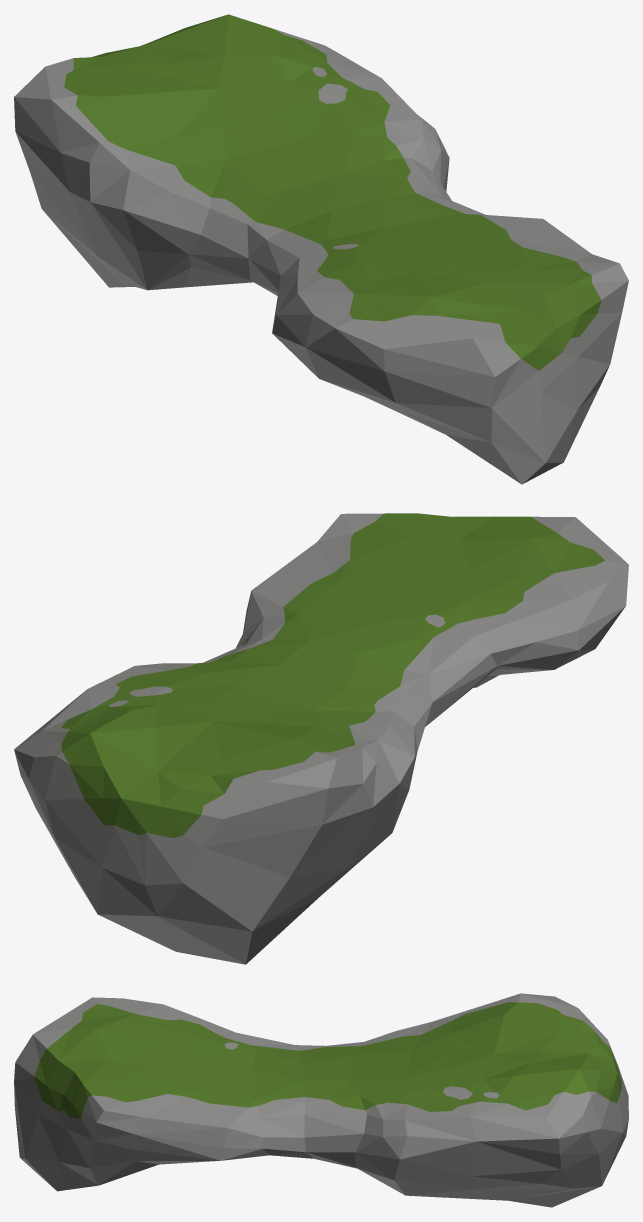
Rendered from Cavern_FloorGrass_Narrow_Bridge_Sml-01.fbx.
3 renders of one model, top to bottom at view 1: azimuth 30°, elevation 25°; view 2: azimuth 150°, elevation 25°; view 3: azimuth 270°, elevation 25°, orthographic. The views are drawn at different scales.
Visible parts, largest first — view 1: Cavern_FloorGrass_Narrow_Bridge_Sml-01; view 2: Cavern_FloorGrass_Narrow_Bridge_Sml-01; view 3: Cavern_FloorGrass_Narrow_Bridge_Sml-01.
Part boxes in pixels (bbox=[...]): Cavern_FloorGrass_Narrow_Bridge_Sml-01: bbox=[14, 14, 628, 484]; Cavern_FloorGrass_Narrow_Bridge_Sml-01: bbox=[14, 513, 628, 964]; Cavern_FloorGrass_Narrow_Bridge_Sml-01: bbox=[14, 993, 628, 1207].
Bounding box in the file's own units: 605 × 384 × 1306.
Materials: 1 (1 with a texture image).
